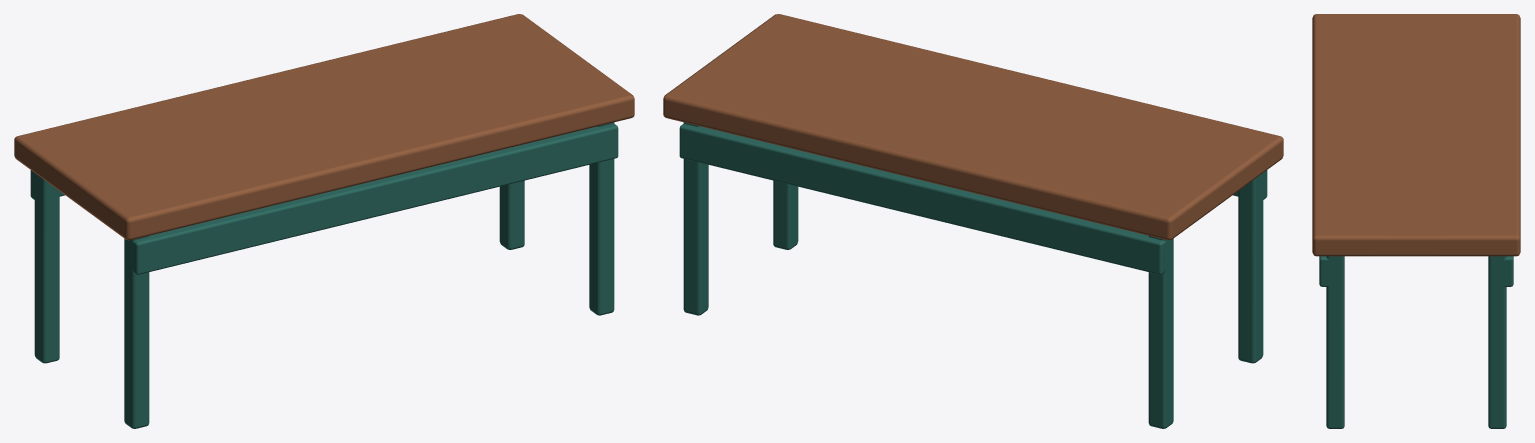
Rendered from christmas-storybook-bakery-serving-table-1f0942f9__18760.glb.
3 views of the same model, side by side, from view 1: azimuth 30°, elevation 25°; view 2: azimuth 150°, elevation 25°; view 3: azimuth 270°, elevation 25° (orthographic). The views are drawn at different scales.
Visible parts, largest first — view 1: oak, pine; view 2: oak, pine; view 3: oak, pine.
Part boxes in pixels (box(x1,y1,x2,y2)): oak: box(14, 14, 634, 240); pine: box(30, 122, 618, 428); oak: box(663, 14, 1283, 240); pine: box(679, 122, 1267, 428); oak: box(1312, 14, 1520, 256); pine: box(1319, 256, 1513, 428).
Size of the model in its own units: 2.3 by 0.95 by 0.8999.
